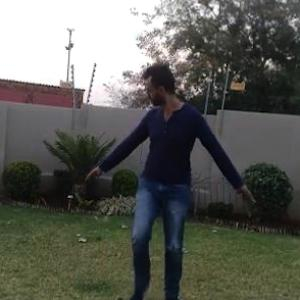land: (61, 59, 282, 299)
